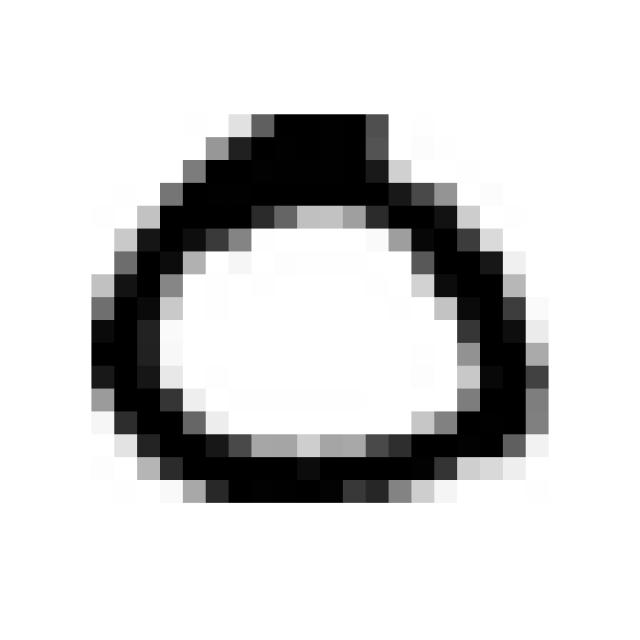5 -five-: (66, 93, 568, 526)
